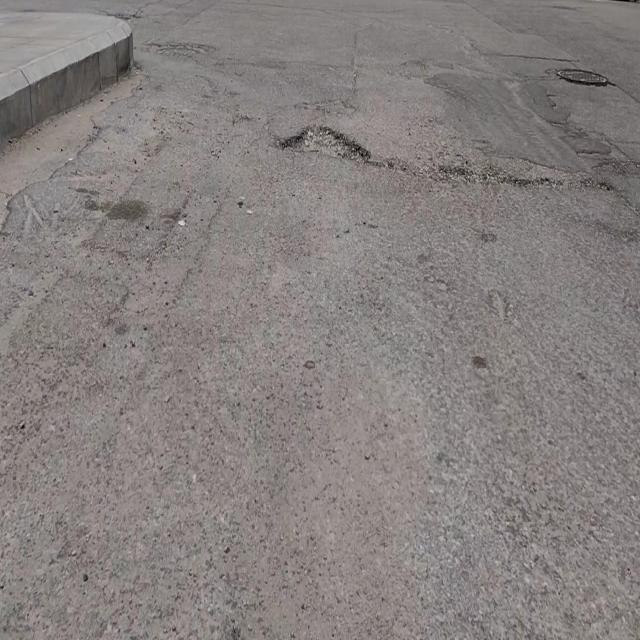Potholes: (279, 118, 371, 164)
